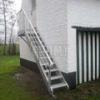stairs: (17, 26, 69, 98)
